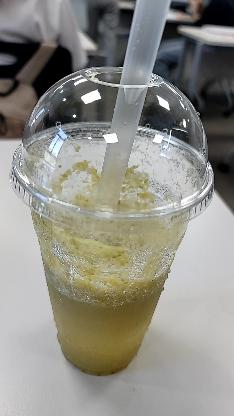Plastic Cup: (12, 66, 216, 382)
